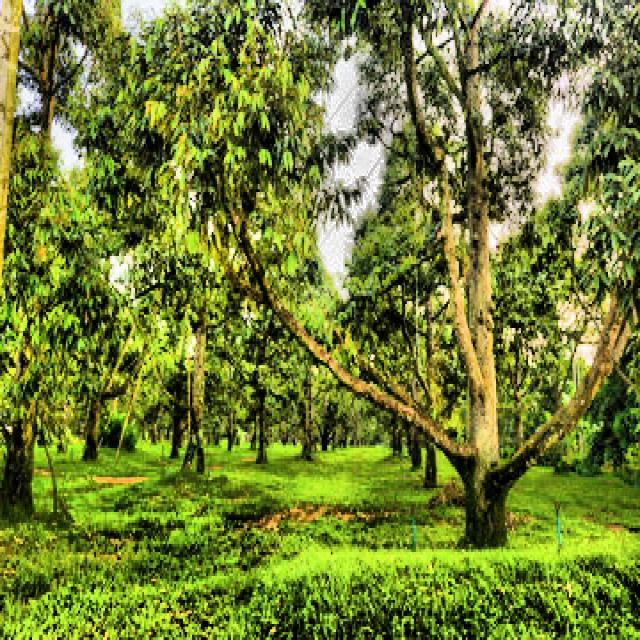arvore: (448, 133, 527, 563), (0, 244, 51, 539), (189, 232, 215, 496), (418, 272, 447, 497), (298, 346, 322, 471), (255, 349, 276, 482)
